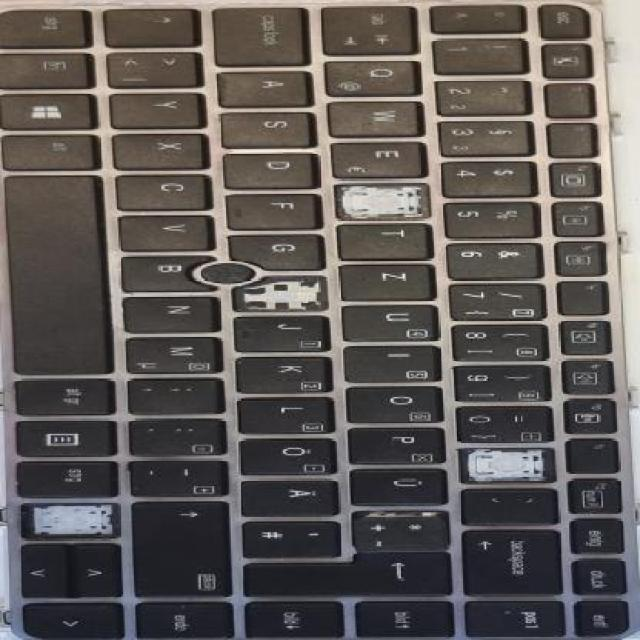Keyboard problems: (235, 277, 326, 311), (337, 185, 428, 218), (462, 449, 554, 480), (22, 505, 117, 535)
